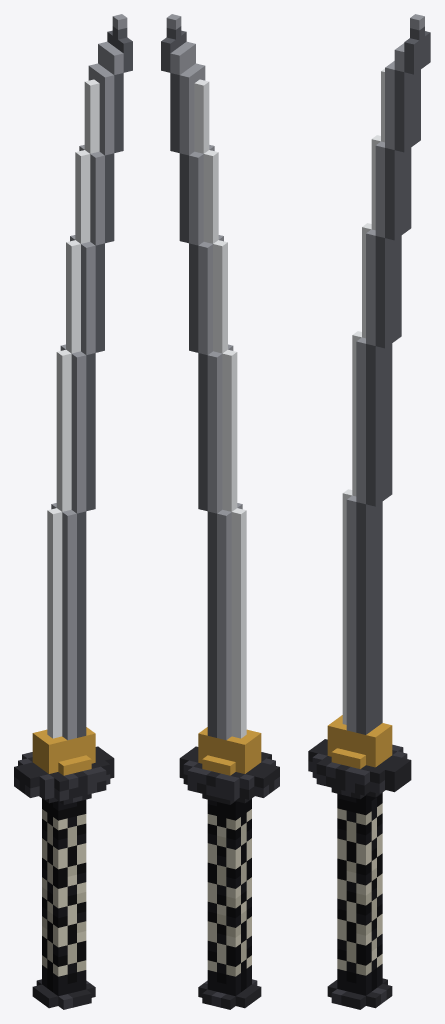
File: Katana_Iron_Voxel.glb
3 views of the same model, side by side, from view 1: azimuth 30°, elevation 25°; view 2: azimuth 150°, elevation 25°; view 3: azimuth 330°, elevation 25° (orthographic). The views are drawn at different scales.
Parts seen in each view (by area): view 1: Katana_Iron_Voxel; view 2: Katana_Iron_Voxel; view 3: Katana_Iron_Voxel.
Part boxes in pixels (x1,y1,x2,y2): Katana_Iron_Voxel: (14,14,132,1009); Katana_Iron_Voxel: (161,14,279,1009); Katana_Iron_Voxel: (308,14,430,1009).
Bounding box in the file's own units: 0.132 × 1.19 × 0.084.
